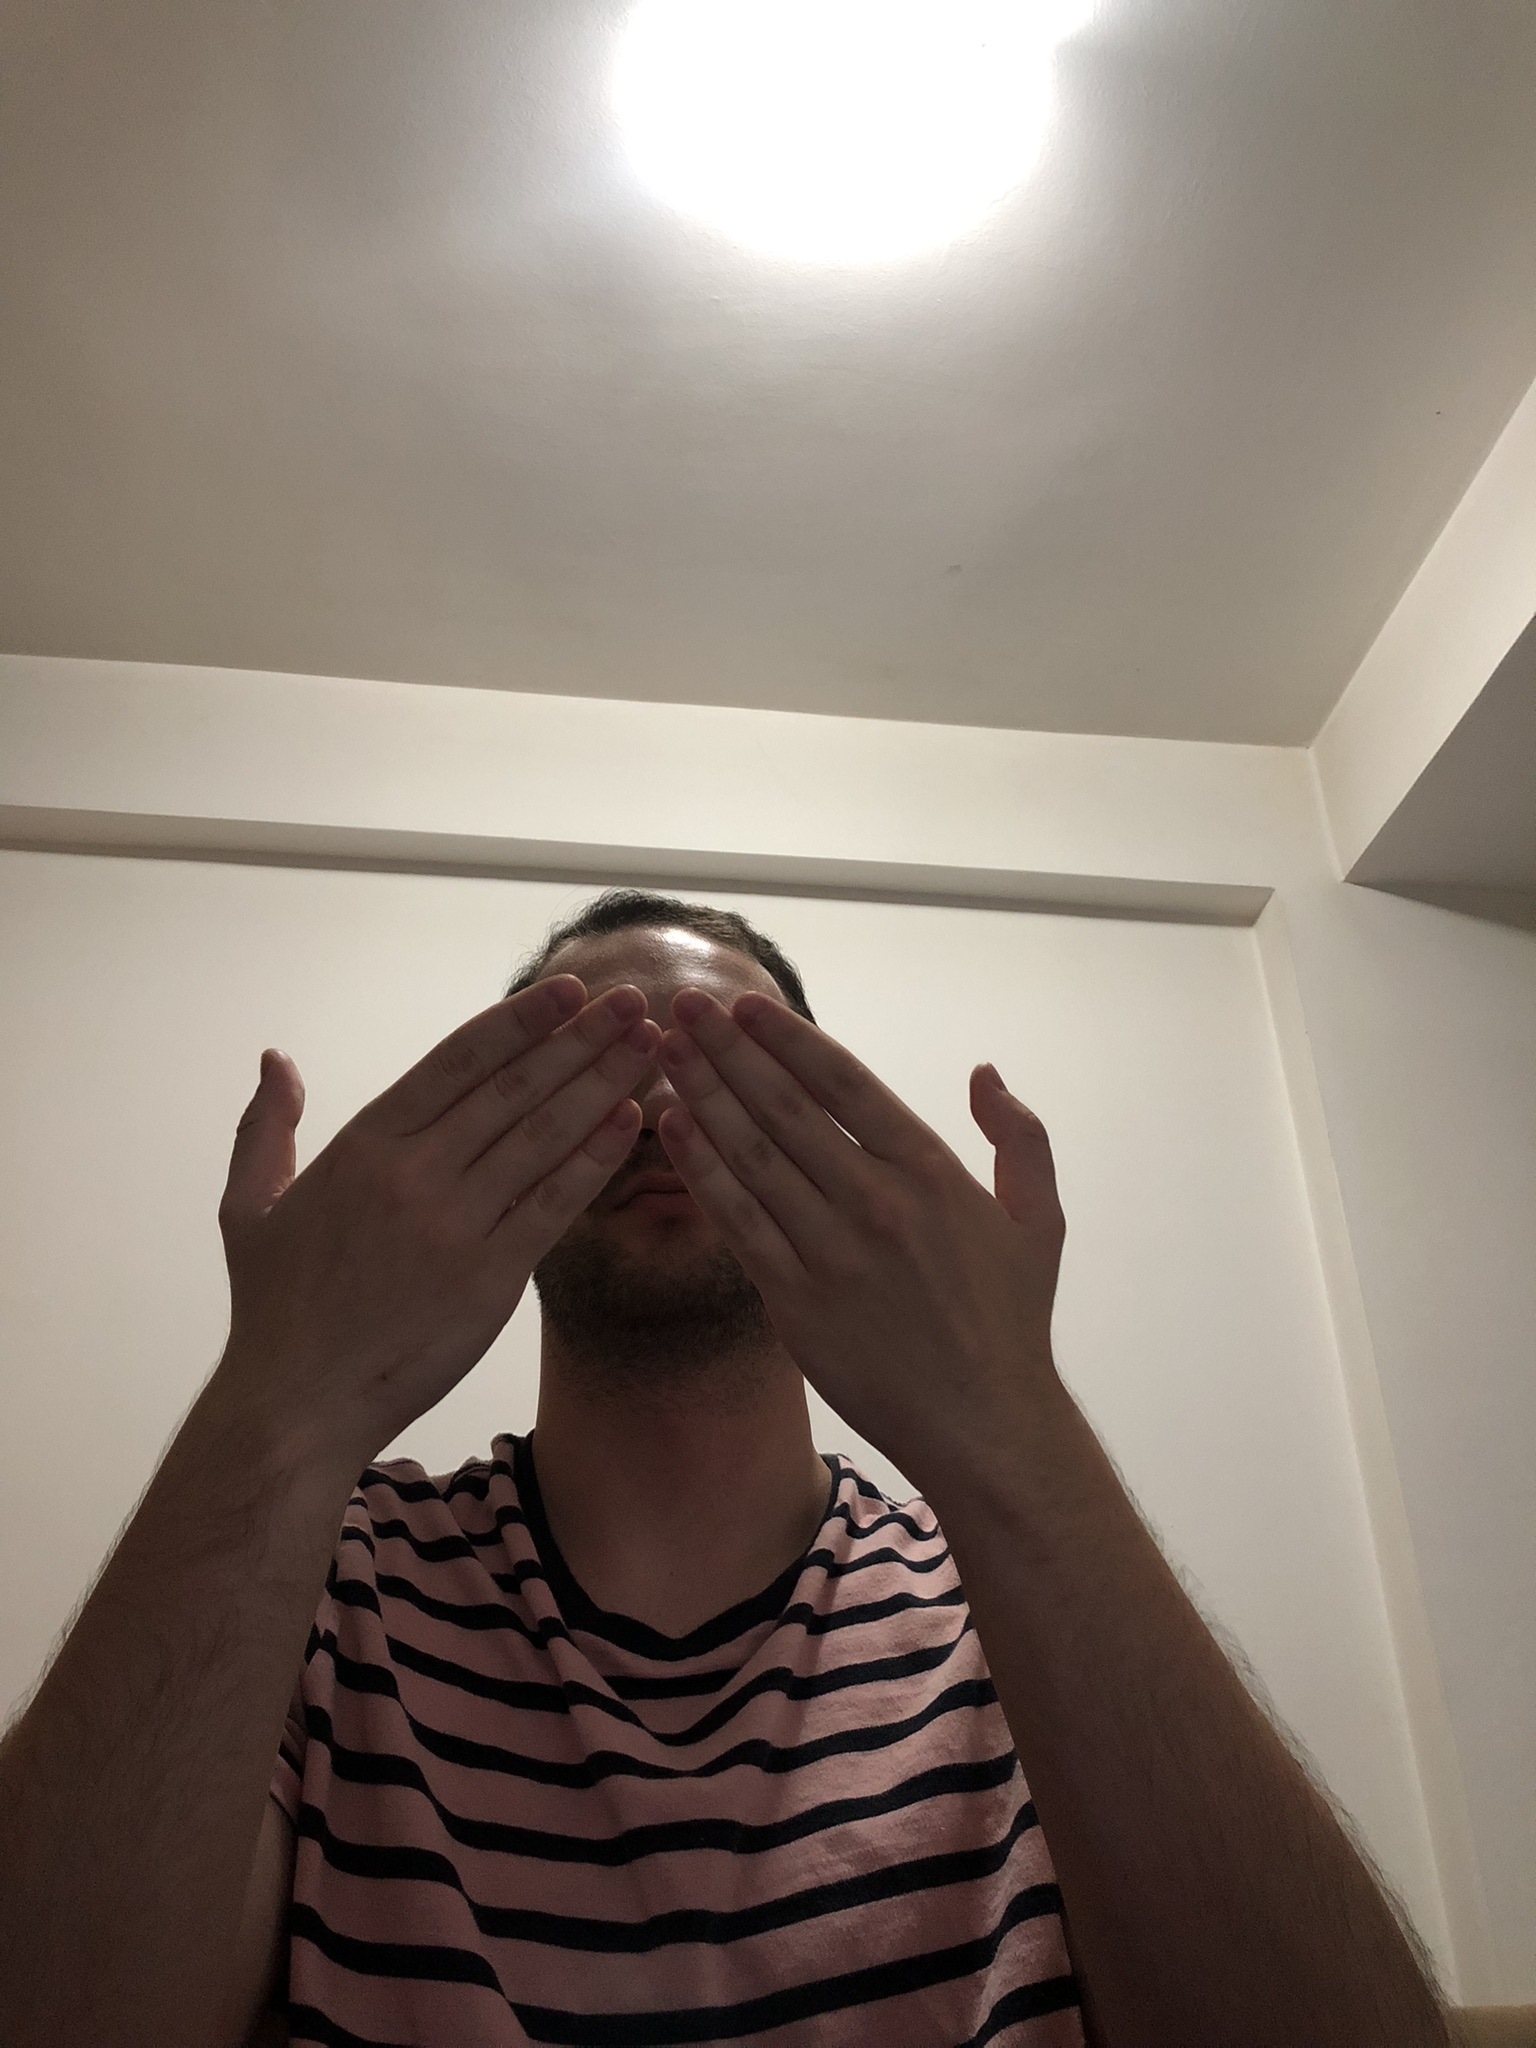Thank You: (215, 963, 1079, 1516)
